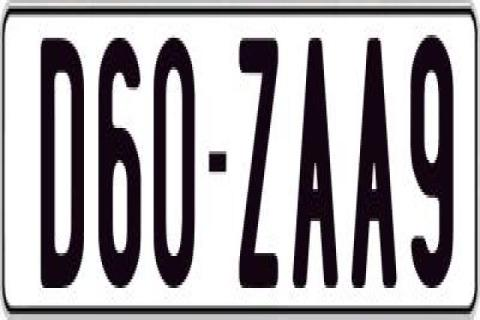0: (408, 35, 456, 305), (95, 32, 137, 296), (154, 35, 196, 299)
A: (290, 32, 336, 285), (348, 38, 394, 291)
D: (38, 35, 87, 288)
Z: (238, 32, 282, 288)
